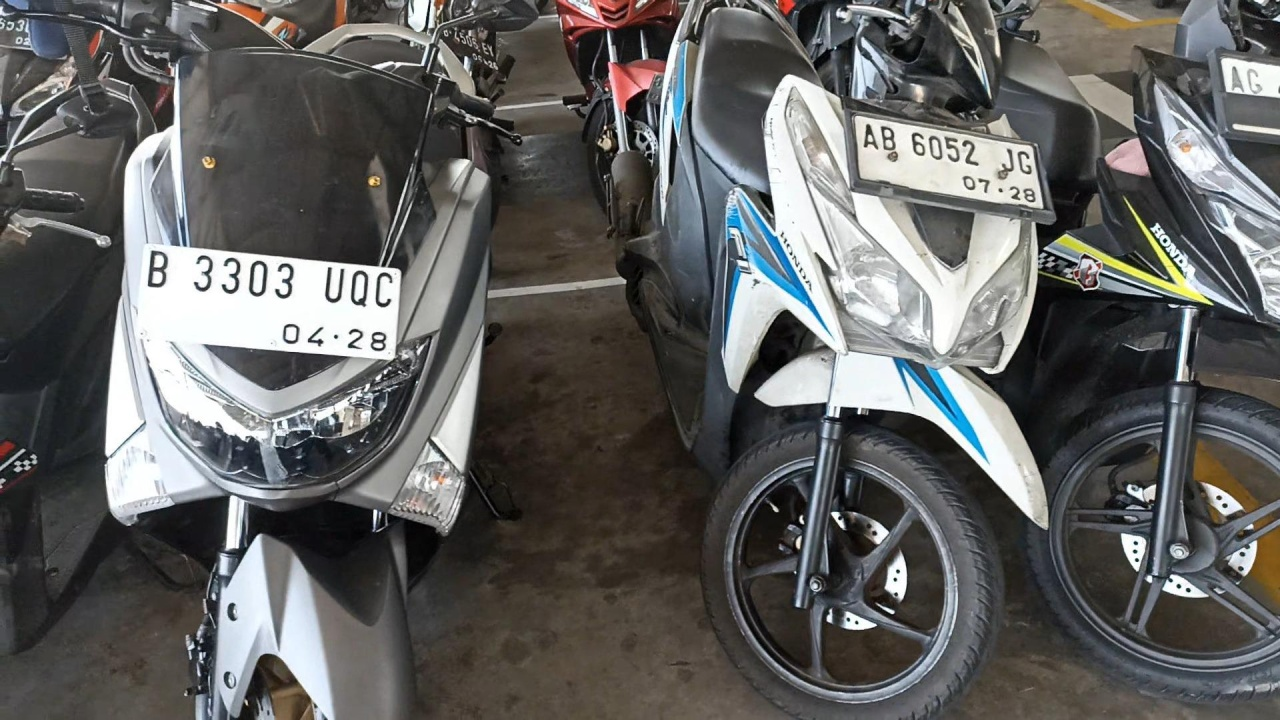plate: (136, 243, 403, 359), (853, 111, 1045, 210)
